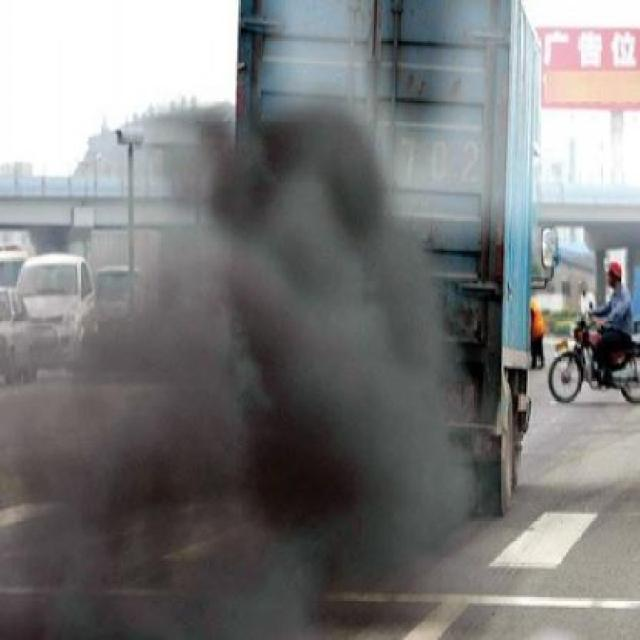Smoke: (0, 101, 476, 640)
